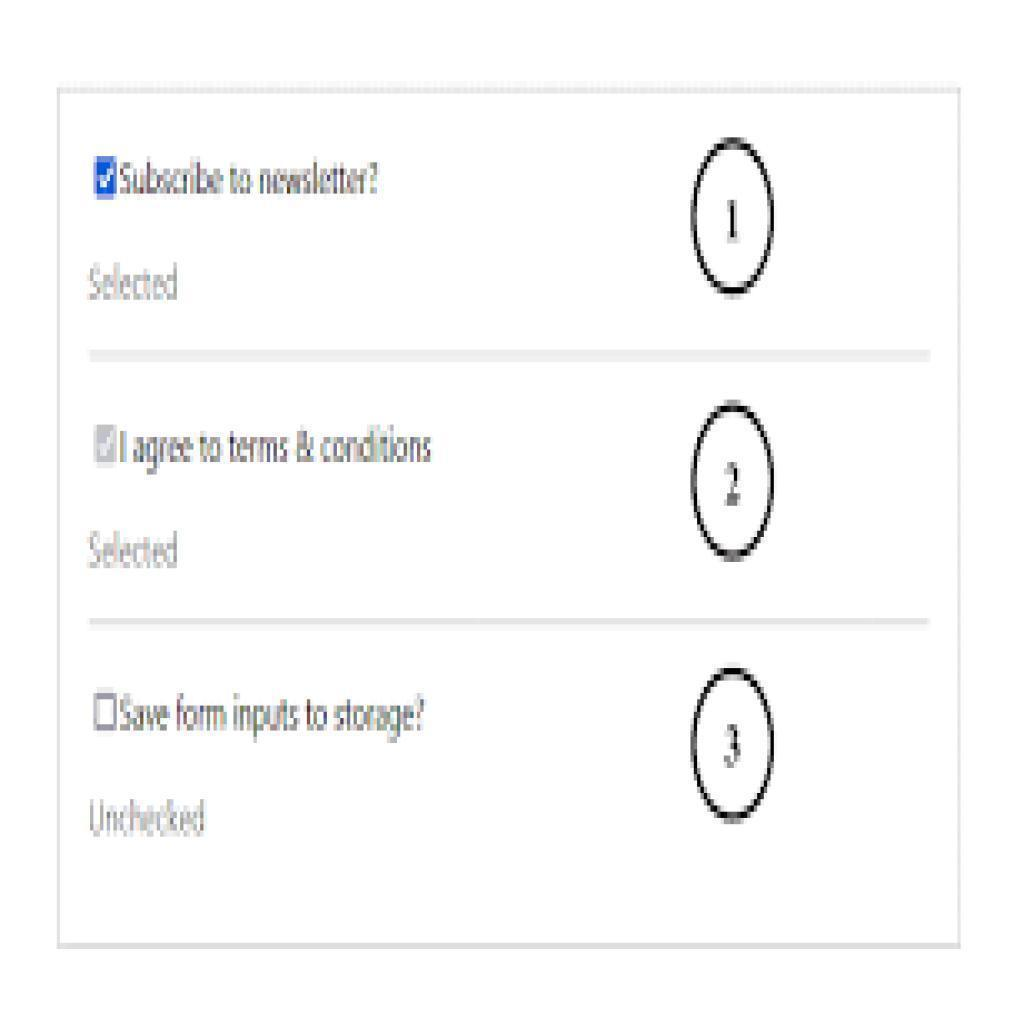checkbox: (93, 154, 119, 202), (91, 691, 120, 733), (93, 422, 121, 465)
